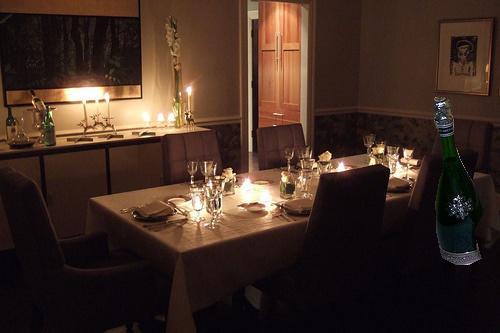tampered: (435, 98, 484, 265)
